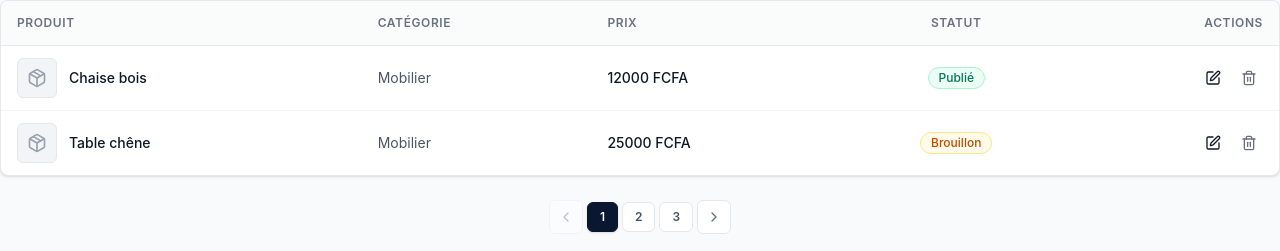
Scenario: AdminProductTable — pagination › affiche un spinner sur la page cliquée pendant le chargement
Click the button named "Page 2". click: x=639, y=217
box: [622, 202, 656, 232]
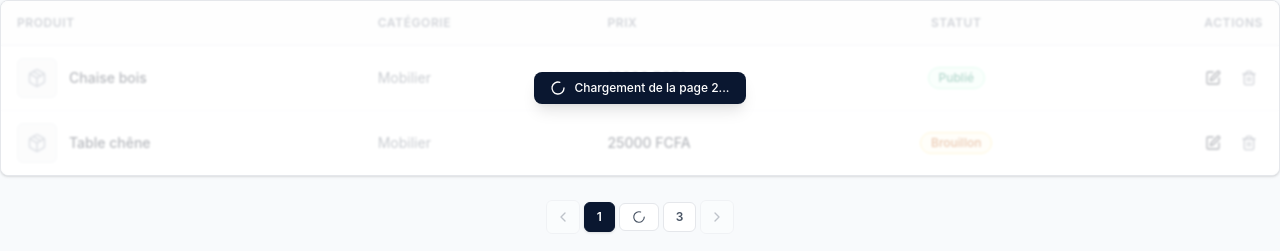
Expected: the 2nd icon with class "animate-spin" is shown, [632, 210, 646, 224]
